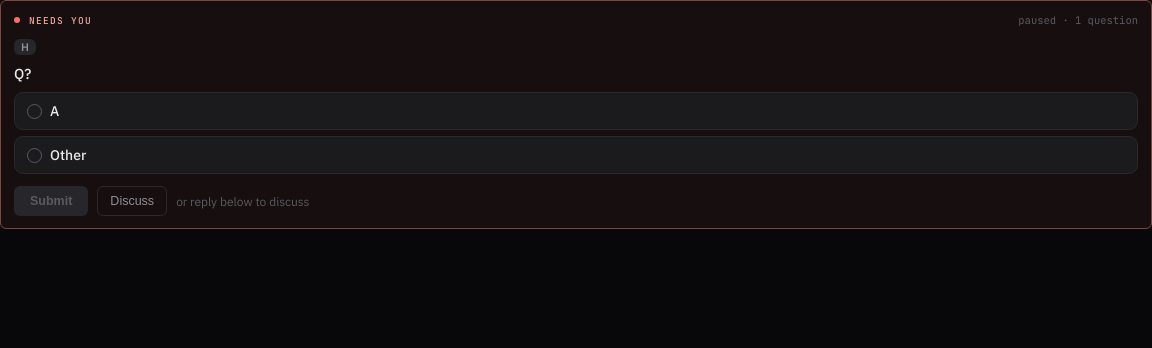
Test: Discuss with text locks Submit while the reply is in flight, and unlocks it if the reply fails
Step 1. Click the button "A" → (34, 111), box [14, 92, 1138, 130]
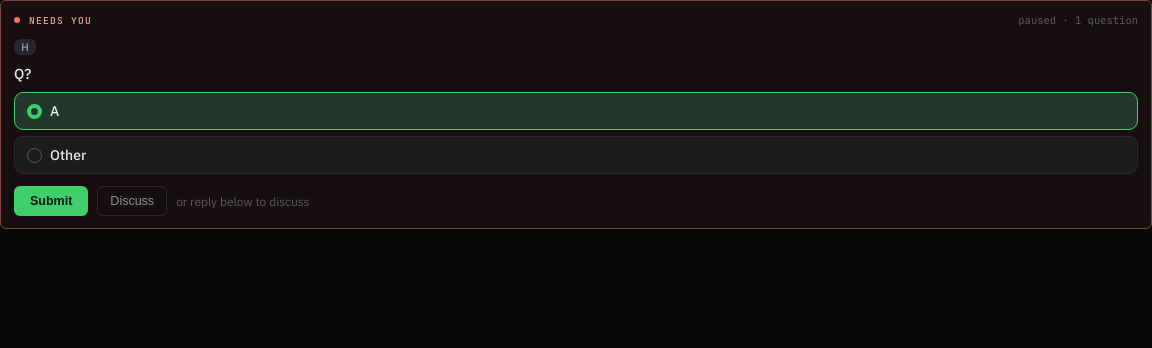
Step 2. Click the button "Discuss" → (132, 201), box [97, 186, 167, 216]
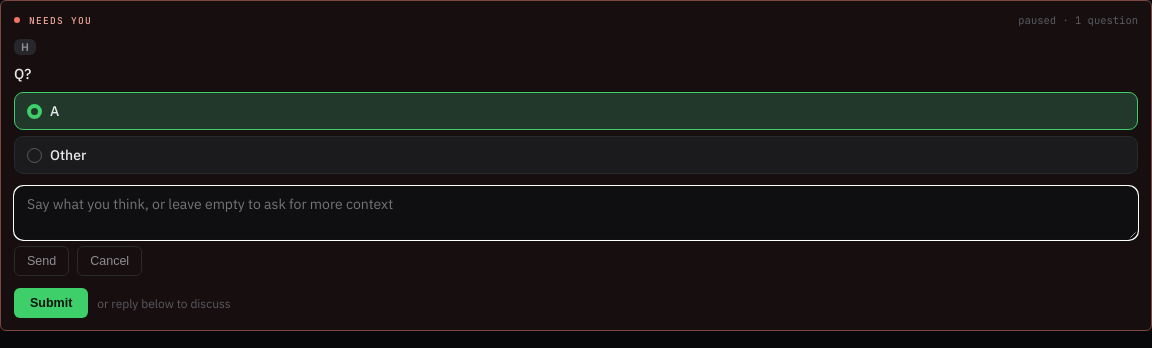
Step 3. Type "What about B?" into the text box named "Discuss the question" → (576, 213), box [14, 186, 1138, 240]
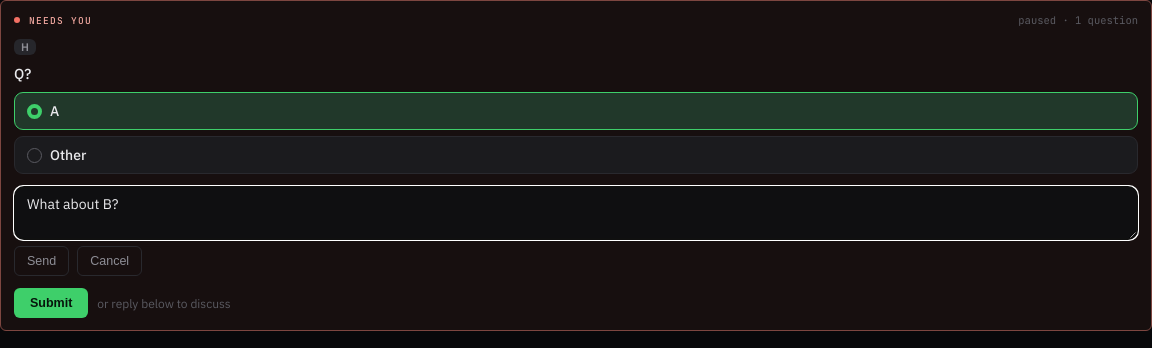
Step 4. Click the button "Send" → (42, 261), box [14, 246, 69, 276]
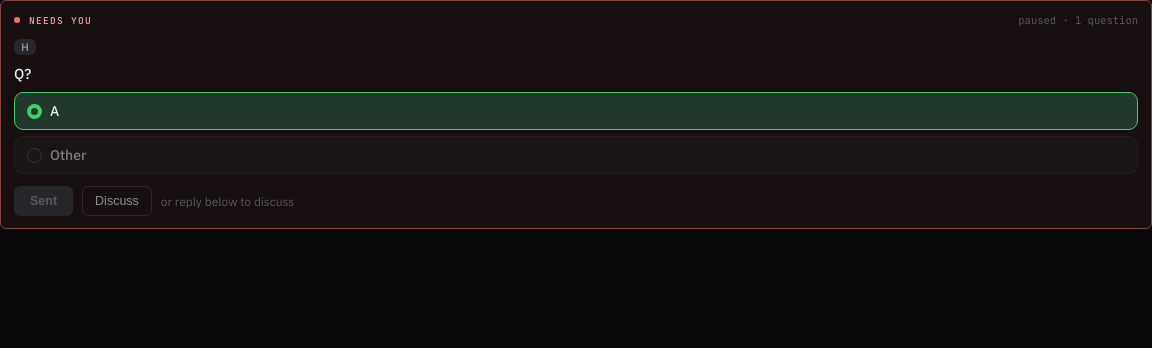
Now the button "Sent" is disabled
Step 5. Click the button "Sent" → (44, 201), box [14, 186, 73, 216]
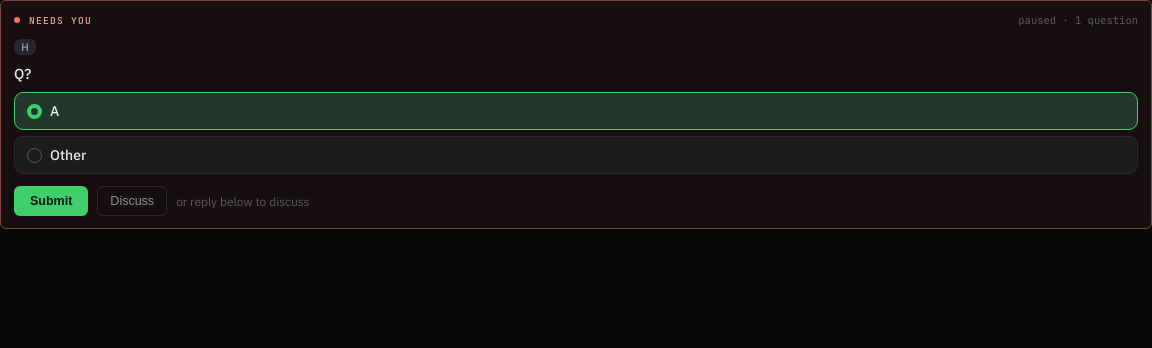
Now the button "Submit" is enabled, box [14, 186, 88, 216]
